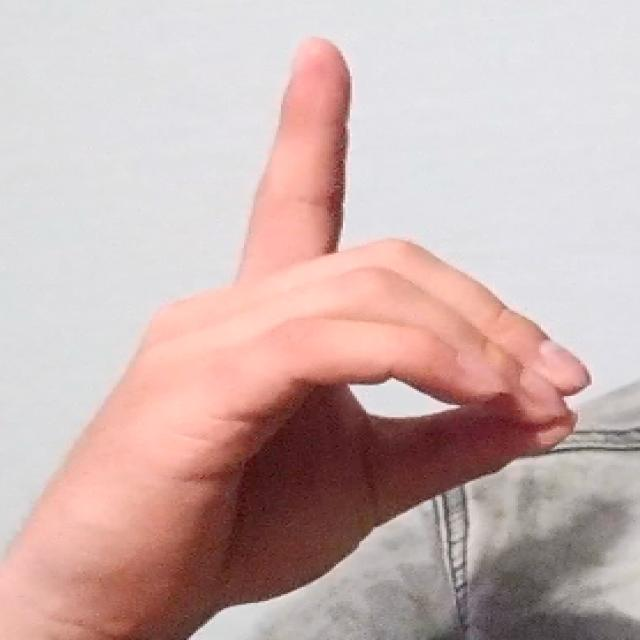D: (13, 32, 602, 630)
